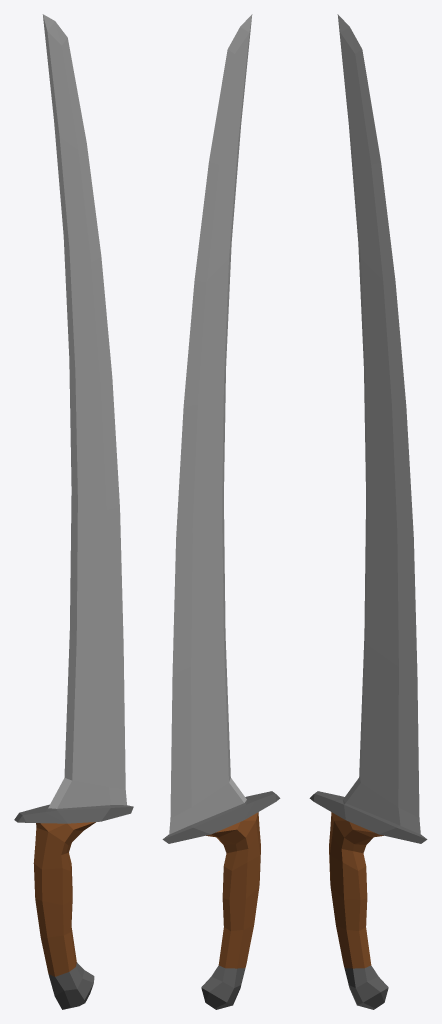
Rendered from Low Poly Weapon Pack - by Kickin It Studios.fbx_Offset_Sword.glb.
3 views of the same model, side by side, from view 1: azimuth 30°, elevation 25°; view 2: azimuth 210°, elevation 25°; view 3: azimuth 330°, elevation 25° (orthographic).
Visible parts, largest first — view 1: Offset Sword; view 2: Offset Sword; view 3: Offset Sword.
Boxes of the visible parts, box(x1,y1,x2,y2) form: Offset Sword: box(14, 14, 133, 1009); Offset Sword: box(162, 14, 280, 1009); Offset Sword: box(309, 14, 427, 1009).
Size of the model in its own units: 0.1654 by 1.34 by 0.0405.
